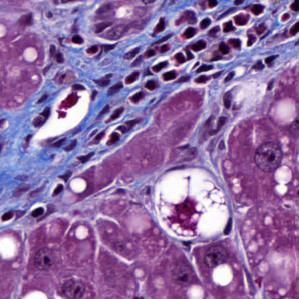ballooning: (150, 163, 231, 244)
